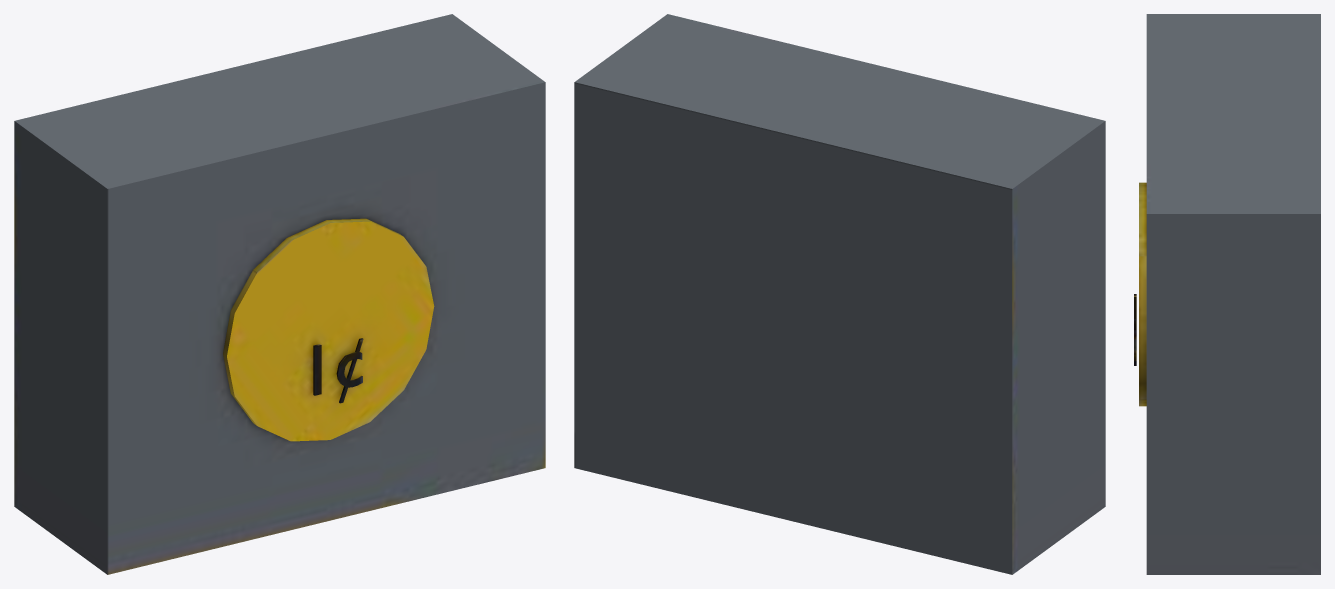
File: prensa_martillo.glb
3 views of the same model, side by side, from view 1: azimuth 30°, elevation 25°; view 2: azimuth 150°, elevation 25°; view 3: azimuth 270°, elevation 25° (orthographic). The views are drawn at different scales.
Parts seen in each view (by area): view 1: prensa_martillo; view 2: prensa_martillo; view 3: prensa_martillo.
Boxes of the visible parts, box(x1,y1,x2,y2) form: prensa_martillo: box(14, 14, 545, 574); prensa_martillo: box(574, 14, 1105, 574); prensa_martillo: box(1134, 14, 1320, 574).
Bounding box in the file's own units: 1.9 × 1.6 × 0.75.
1 material, 1 textured.
